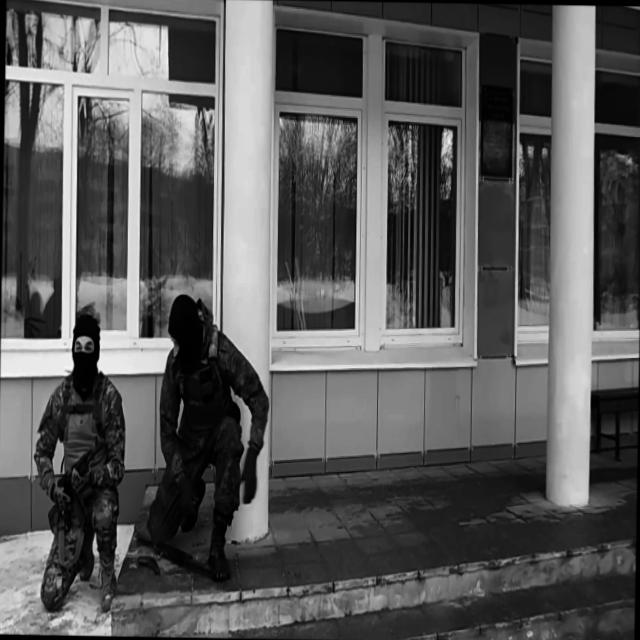gun: (46, 432, 104, 538), (134, 518, 223, 584), (136, 551, 160, 578)
person with a gun: (146, 290, 272, 582), (31, 310, 128, 613)
